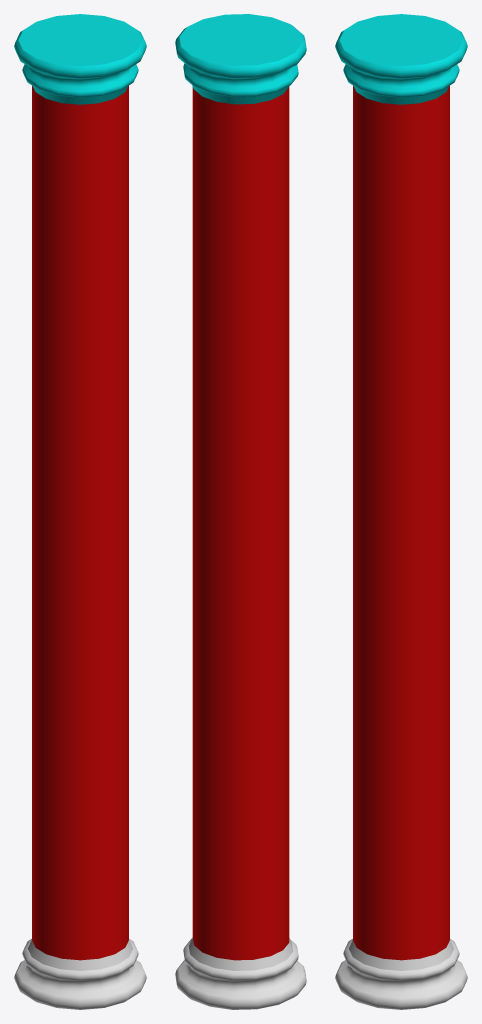
Rendered from SM_ColumnBasic6m.fbx.
3 renders of one model, left to right at view 1: azimuth 90°, elevation 25°; view 2: azimuth 150°, elevation 25°; view 3: azimuth 270°, elevation 25°, orthographic.
Parts seen in each view (by area): view 1: SM_ColumnBasic6m; view 2: SM_ColumnBasic6m; view 3: SM_ColumnBasic6m.
Boxes of the visible parts, x1,y1,x2,y2 form: SM_ColumnBasic6m: (14, 14, 146, 1009); SM_ColumnBasic6m: (175, 14, 306, 1009); SM_ColumnBasic6m: (335, 14, 467, 1009).
Size of the model in its own units: 76.48 by 600 by 76.48.
